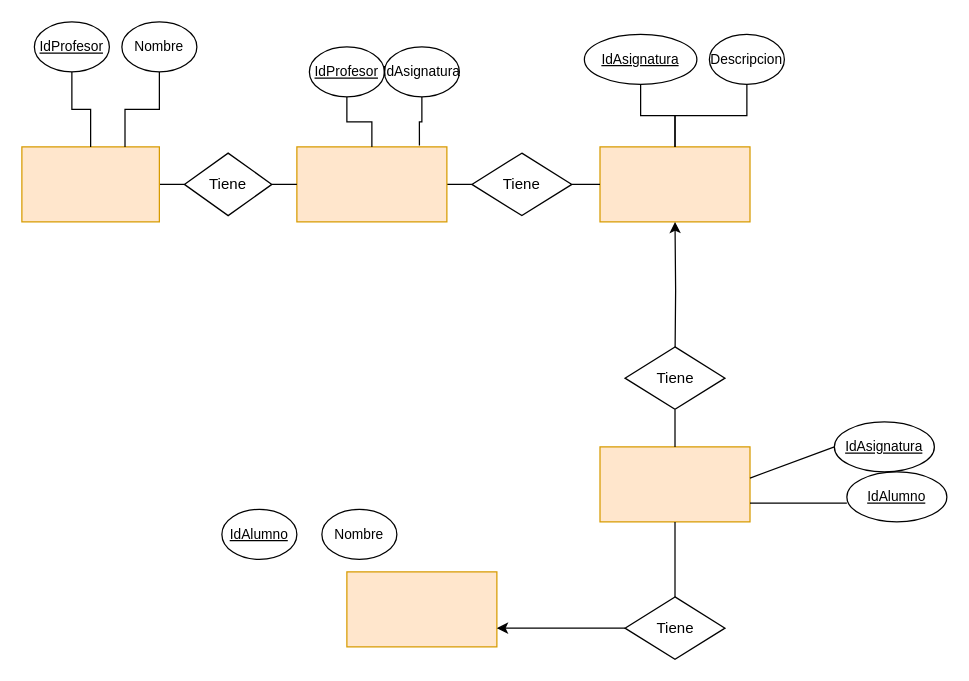
Image size: 969x681. Some labels were removed from this diagram. The centre of each missing label's shape, as x and y in pixels:
Alumnos: (421,609)
Asignatura: (674,184)
Asignatura/Alumno: (674,484)
Profesor: (90,184)
Profesor/Asignatura: (371,184)
